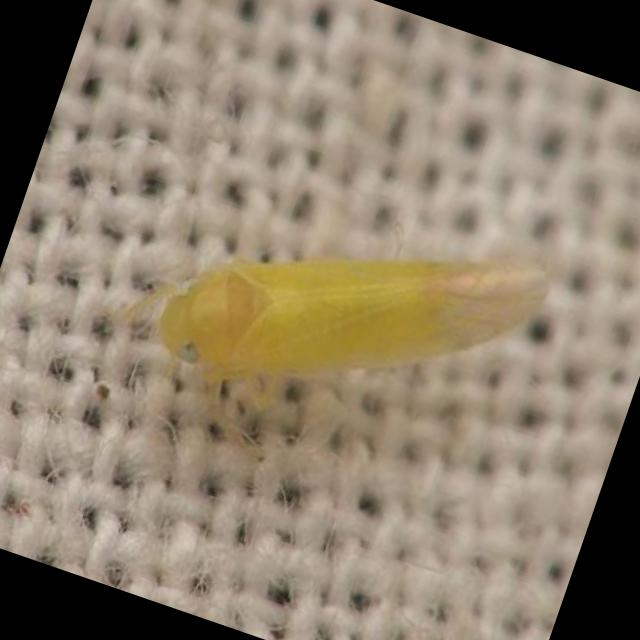green-leafhopper: (112, 256, 544, 455)
